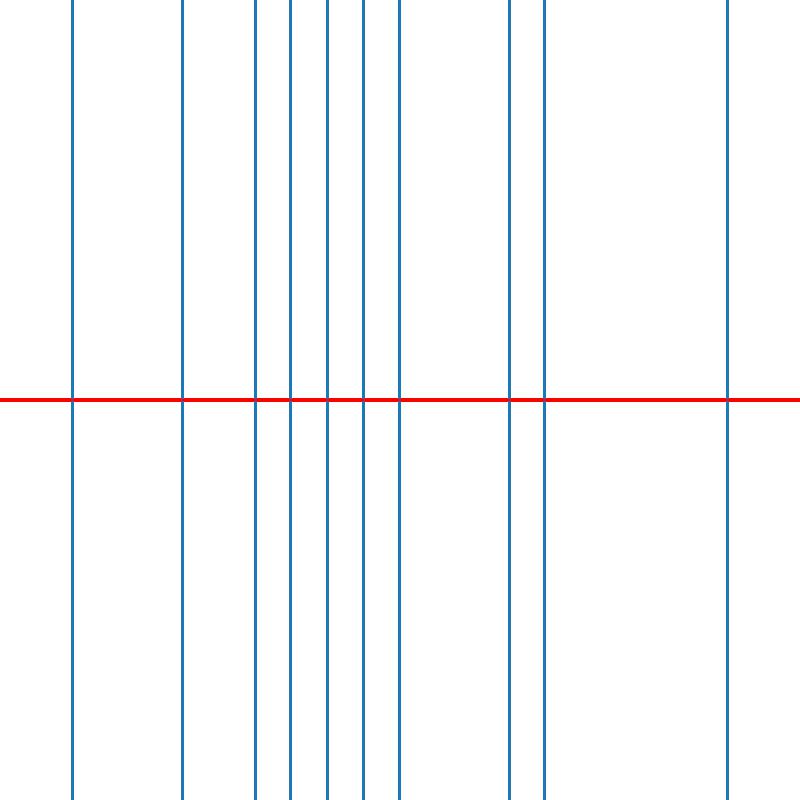root: (541, 396, 549, 404), (250, 396, 258, 404), (505, 396, 512, 404), (178, 396, 185, 404), (360, 396, 367, 404), (287, 396, 294, 404), (723, 396, 730, 404), (323, 396, 330, 404), (69, 396, 76, 404), (396, 396, 403, 404)
